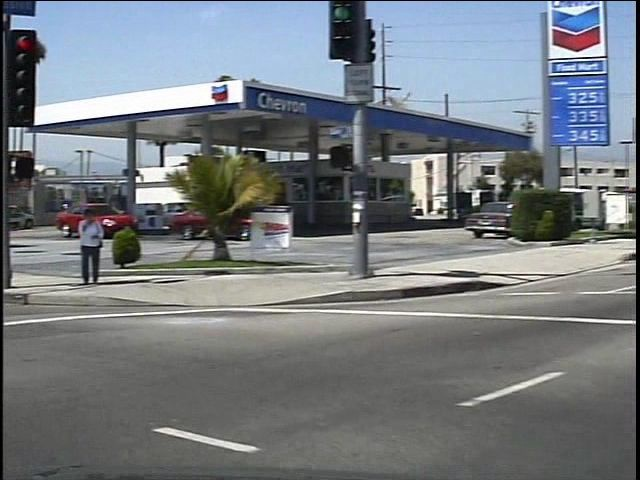person: (66, 203, 99, 290)
